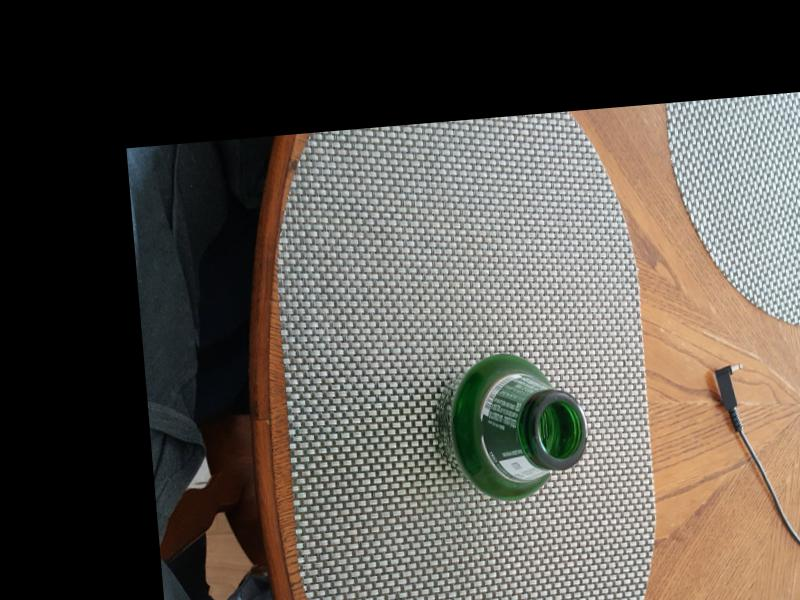Beer: (432, 353, 589, 497)
